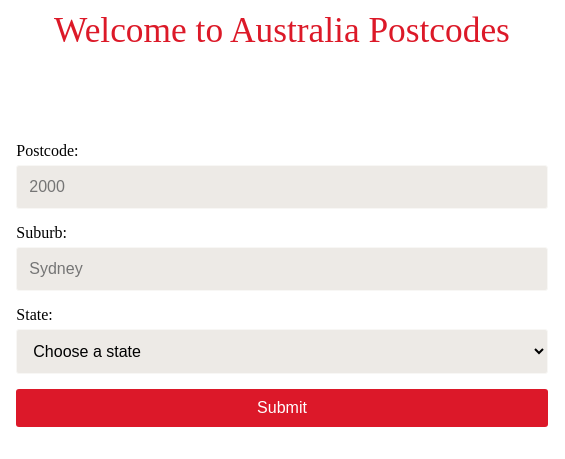
Test: suburb is not entered
The image size is (565, 459).
Expected: the form is shown, [16, 142, 548, 427]
Expected: the field with id "suburb" is shown, [16, 247, 548, 291]
Type "2040" into the field labelled "Postcode:".
click(282, 187); type("2040")  # box [16, 165, 548, 209]
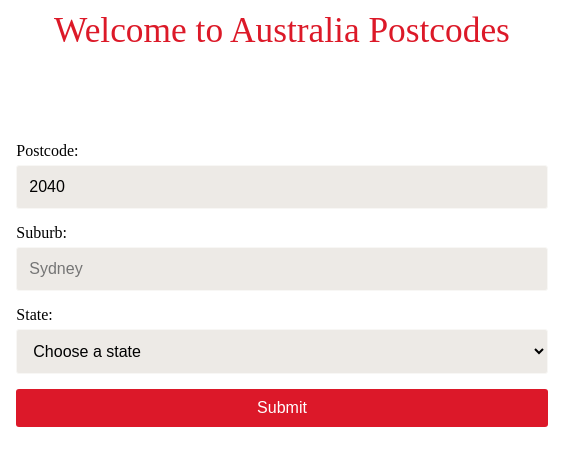
Select "NSW" in the dropdown with id "state" at (282, 352), box [16, 329, 548, 374]
(page scrolled)
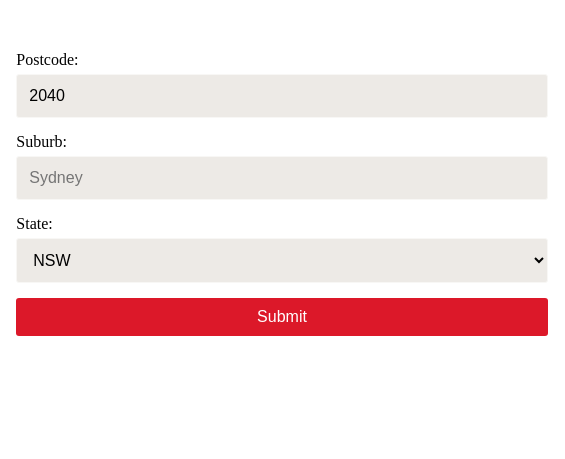
Submit the form, box [16, 51, 548, 336]
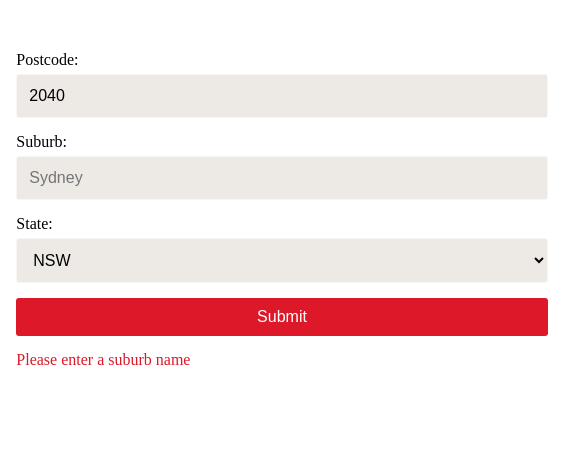
Now the text named "validation-message" reads "Please enter a suburb name", box [16, 351, 190, 368]
